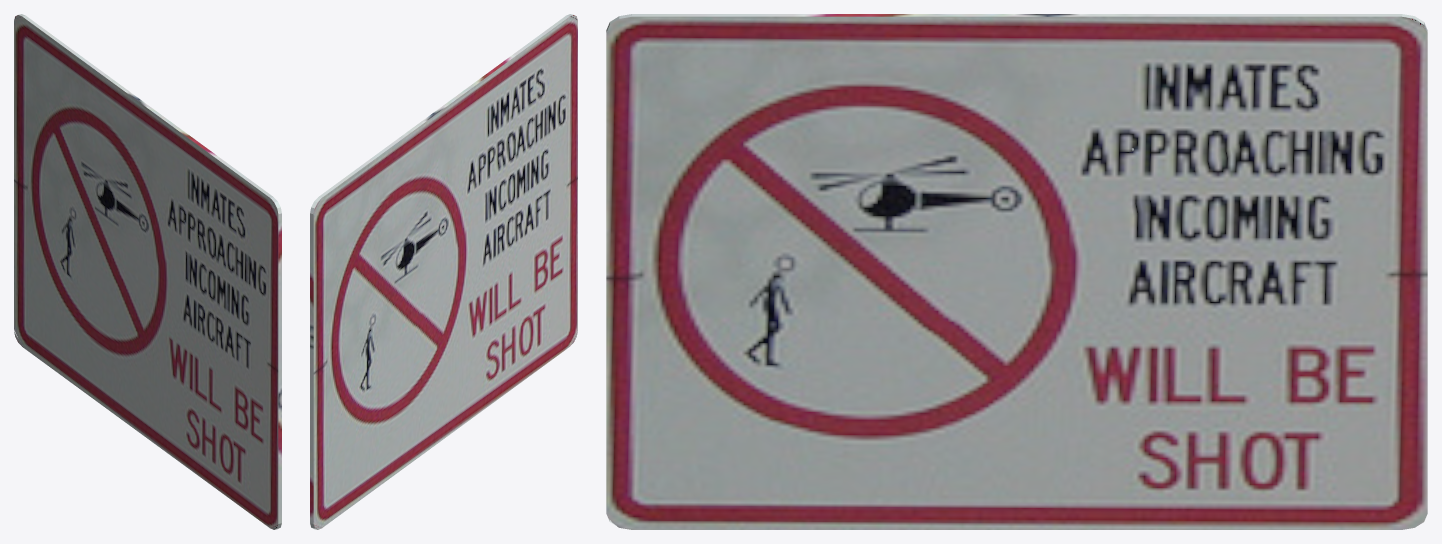
Rendered from DecalHeliSign.fbx.
The picture shows the model from 3 angles, left to right: view 1: azimuth 30°, elevation 25°; view 2: azimuth 150°, elevation 25°; view 3: azimuth 270°, elevation 25°; orthographic projection. The views are drawn at different scales.
Parts seen in each view (by area): view 1: DecalHeliSign; view 2: DecalHeliSign; view 3: DecalHeliSign.
Boxes of the visible parts, x1,y1,x2,y2 form: DecalHeliSign: (14, 14, 281, 529); DecalHeliSign: (310, 14, 577, 529); DecalHeliSign: (606, 14, 1427, 529).
Bounding box in the file's own units: 5.01e-05 × 0.00435 × 0.00631.
